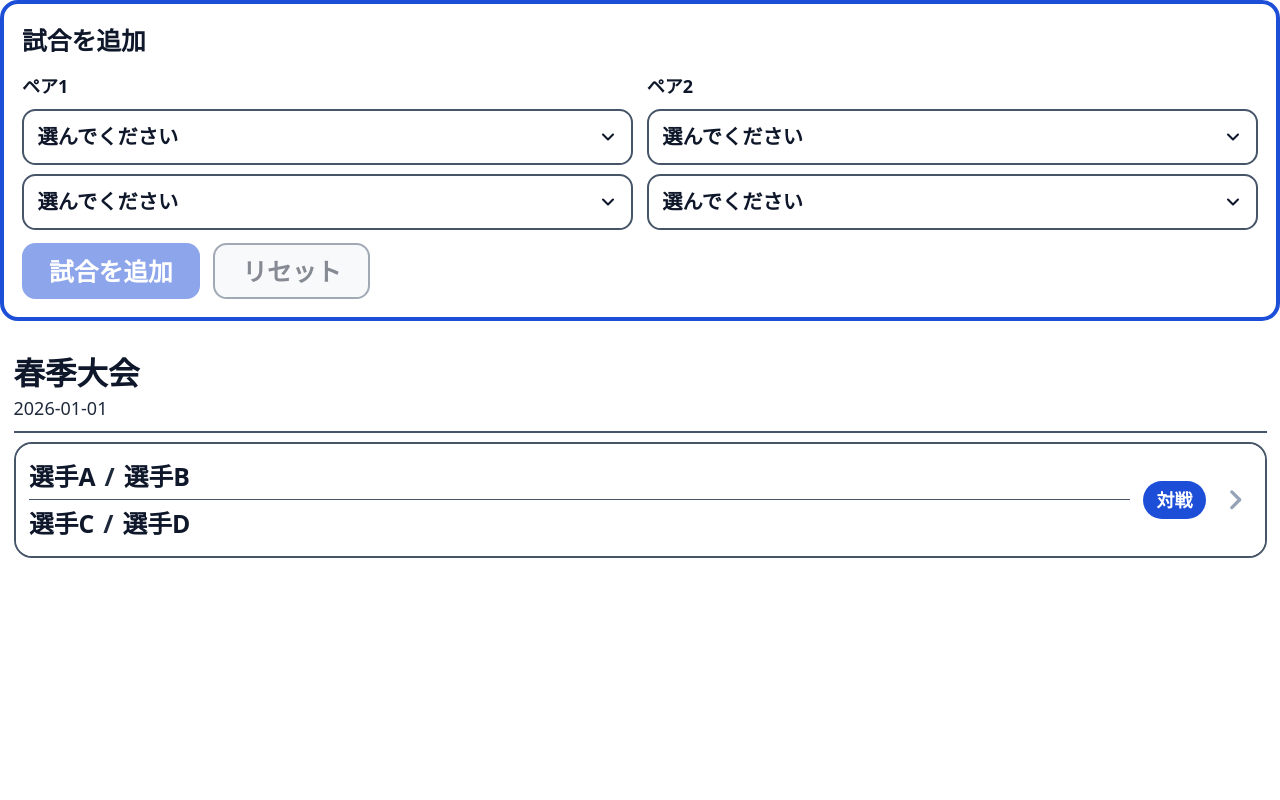
Test: DoublesList › 既存試合アイテムクリックで MatchModal が開く
This screenshot has width=1280, height=800.
Click the button "選手A /選手B 選手C /選手D 対戦" at (62, 476), box [16,444,1264,556]
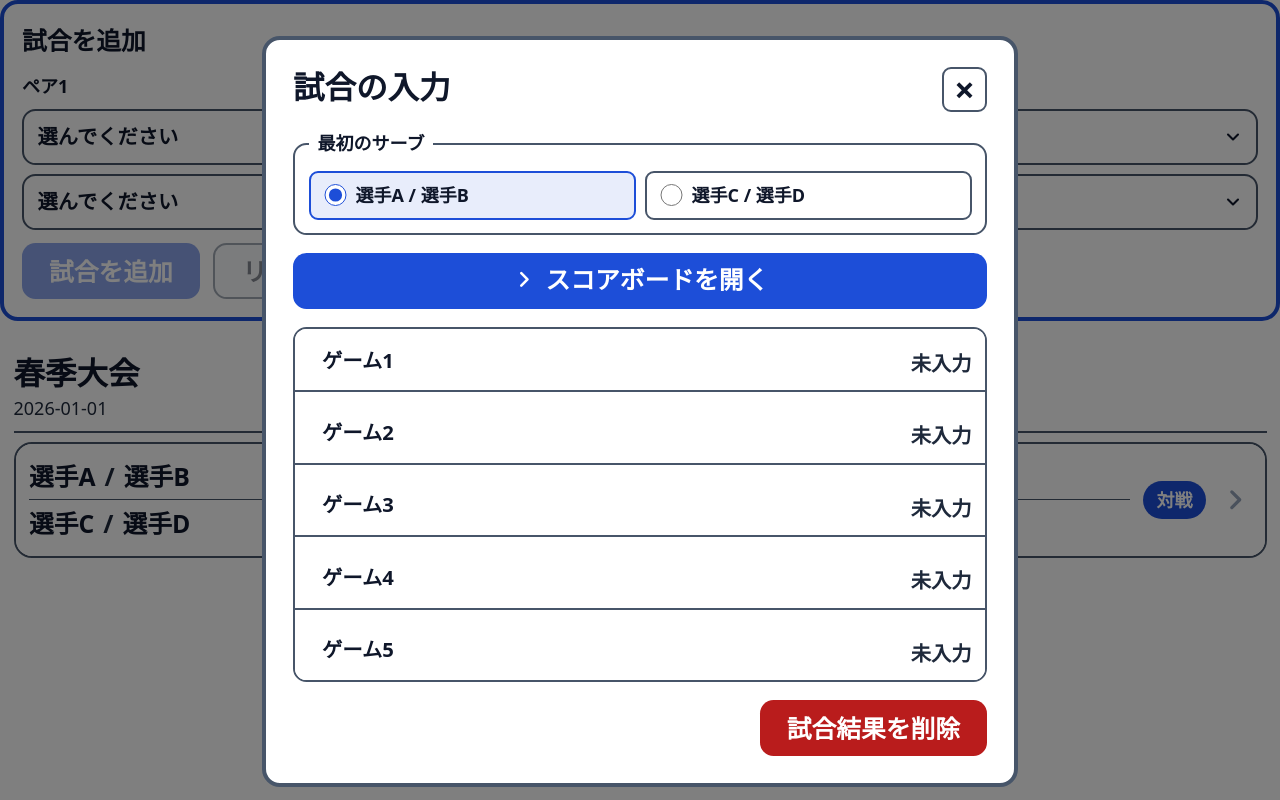
Check: the dialog is shown, box [262,36,1018,787]
Check: the heading "試合の入力" is shown, box [293,67,450,108]
